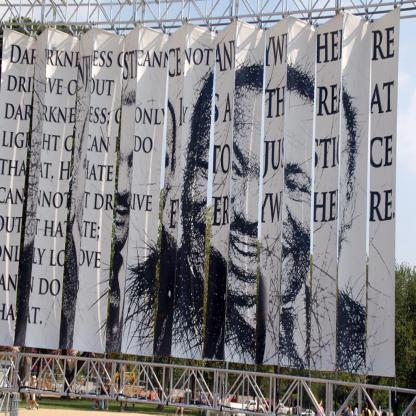face: (221, 94, 286, 299), (189, 108, 252, 279), (263, 104, 316, 302), (98, 112, 149, 244)
